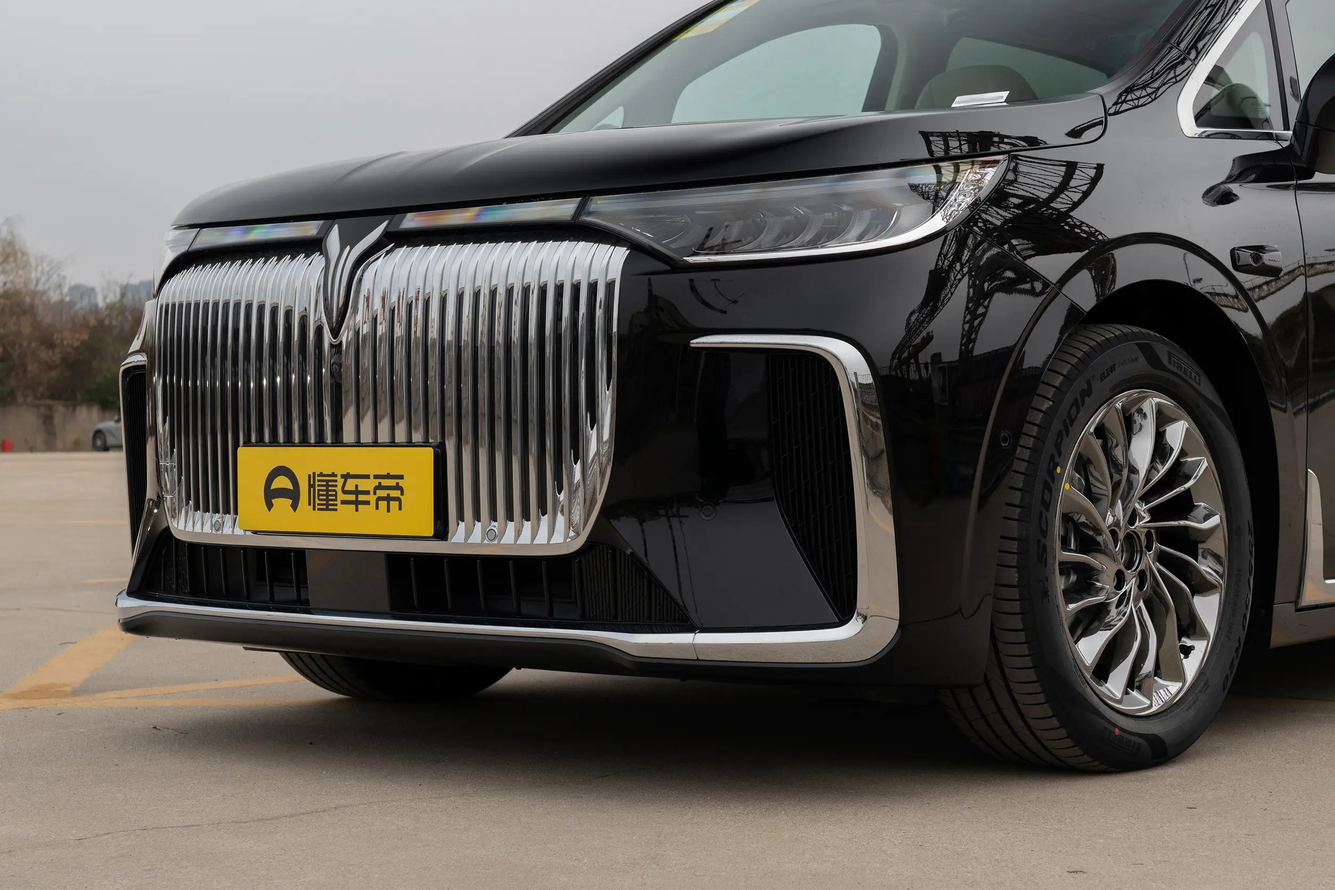VOYAH: (326, 220, 388, 326)
